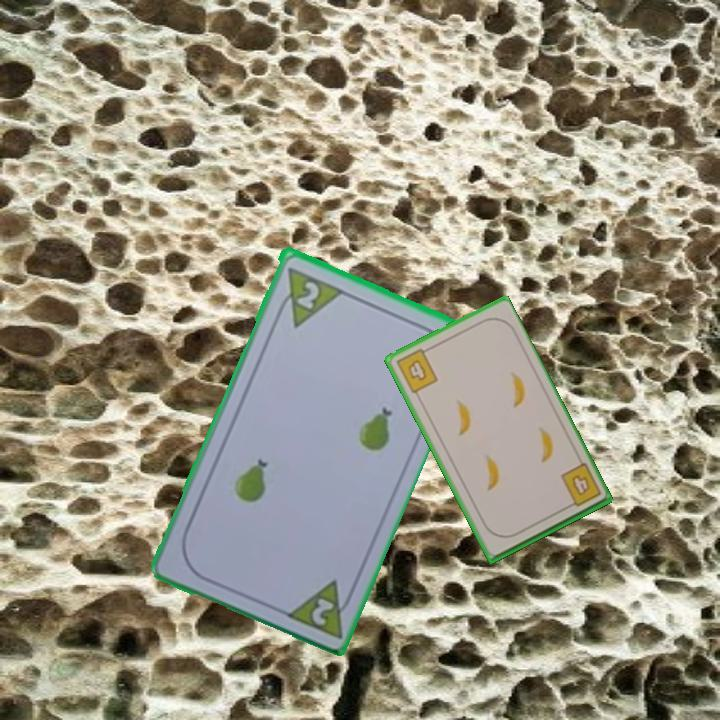2p: (280, 574, 359, 641), (293, 276, 322, 312)
4b: (392, 344, 441, 396), (557, 460, 604, 512)
